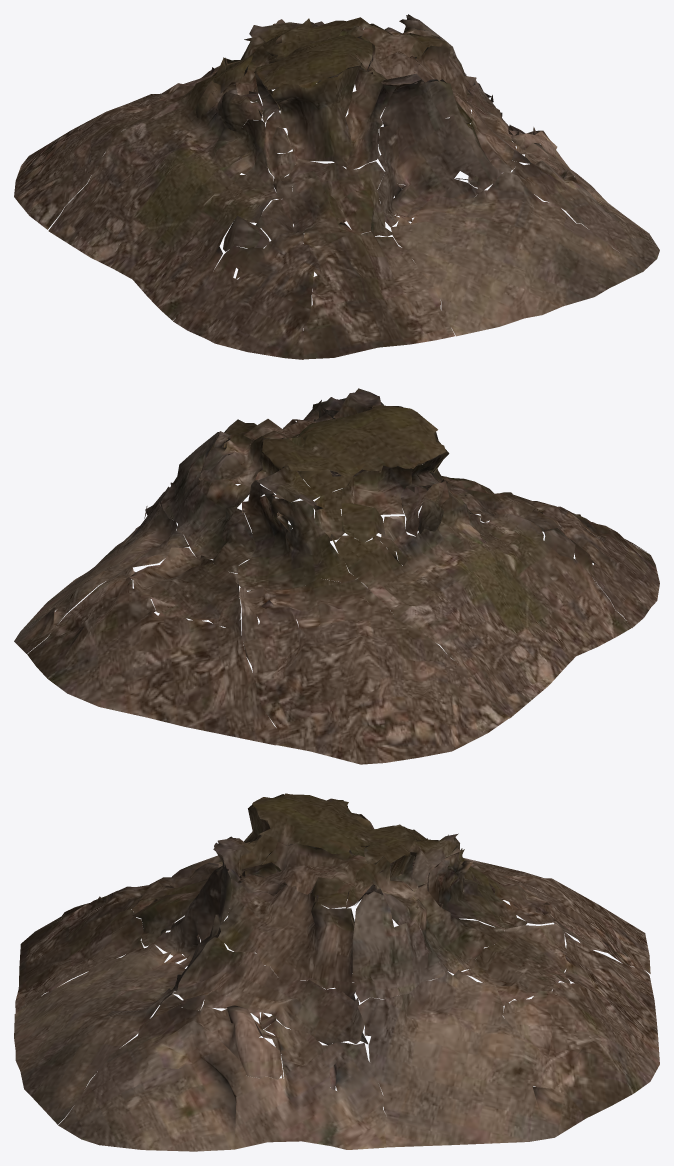
The model's file is kf_stump_a.glb.
3 views of the same model, one above another, from view 1: azimuth 30°, elevation 25°; view 2: azimuth 150°, elevation 25°; view 3: azimuth 270°, elevation 25° (orthographic). The views are drawn at different scales.
Parts seen in each view (by area): view 1: tree_stump_01; view 2: tree_stump_01; view 3: tree_stump_01.
Part boxes in pixels (box(x1,y1,x2,y2)): tree_stump_01: box(14, 14, 659, 359); tree_stump_01: box(14, 388, 659, 764); tree_stump_01: box(14, 793, 659, 1151).
Size of what is drawn, in the model's own units: 1.42 by 0.571 by 1.59.
Materials: 1 (1 with a texture image).
